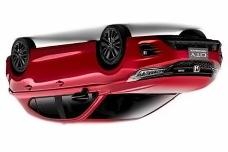Car hood: (115, 74, 216, 98)
Fender - -F-L-: (95, 57, 129, 80)
Fender - -R-L-: (9, 64, 32, 87)
Front bumper: (123, 34, 223, 70)
Headlight - -L-: (125, 66, 166, 85)
Passenger-s door - -F-L-: (55, 36, 104, 125)
Passenger-s door - -R-L-: (23, 44, 64, 124)
Rear bumper: (4, 51, 13, 82)
Side bumper - -L-: (26, 37, 99, 69)
Side mirror - -L-: (71, 90, 89, 105)
